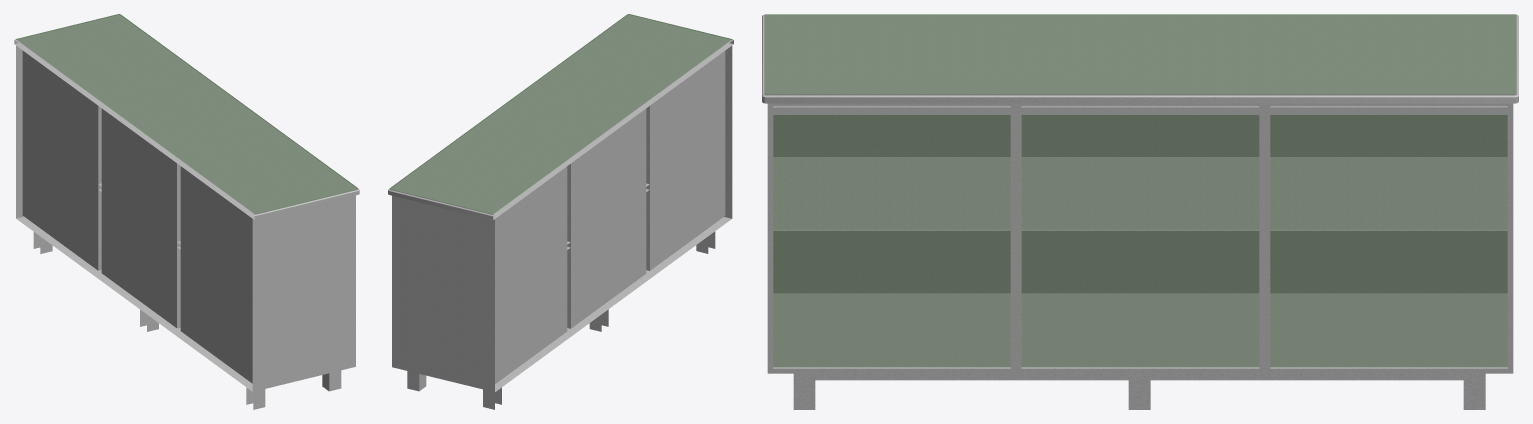
The model's file is Dressoir_Glass.fbx.
3 views of the same model, side by side, from view 1: azimuth 30°, elevation 25°; view 2: azimuth 150°, elevation 25°; view 3: azimuth 270°, elevation 25° (orthographic). The views are drawn at different scales.
Visible parts, largest first — view 1: Dressoir_Glass; view 2: Dressoir_Glass; view 3: Dressoir_Glass.
Part boxes in pixels (x1,y1,x2,y2): Dressoir_Glass: (14, 14, 359, 409); Dressoir_Glass: (388, 14, 733, 409); Dressoir_Glass: (762, 14, 1518, 409).
Size of the model in its own units: 50.38 by 92.87 by 198.
